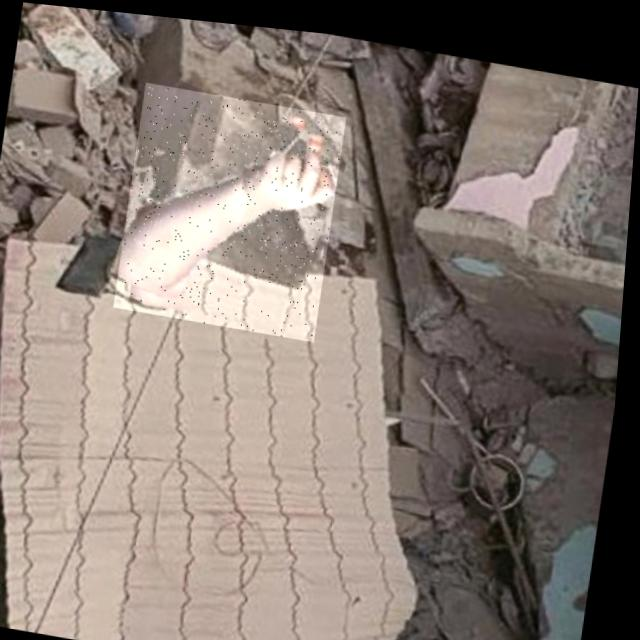Person in Rubble: (116, 77, 347, 336)
